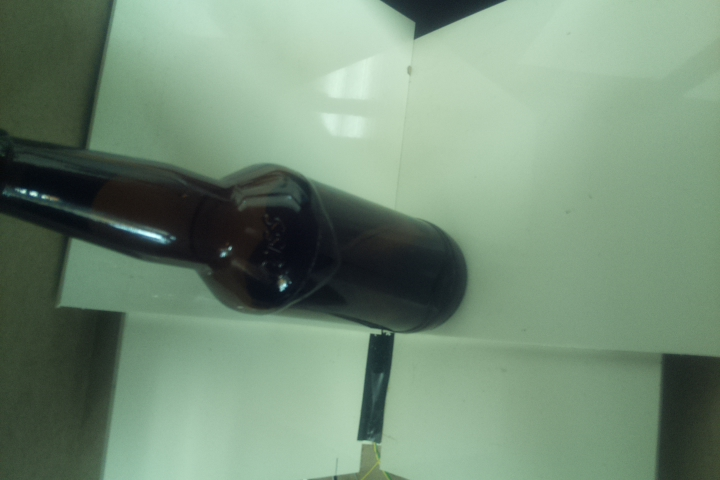makju: (1, 122, 469, 336)
